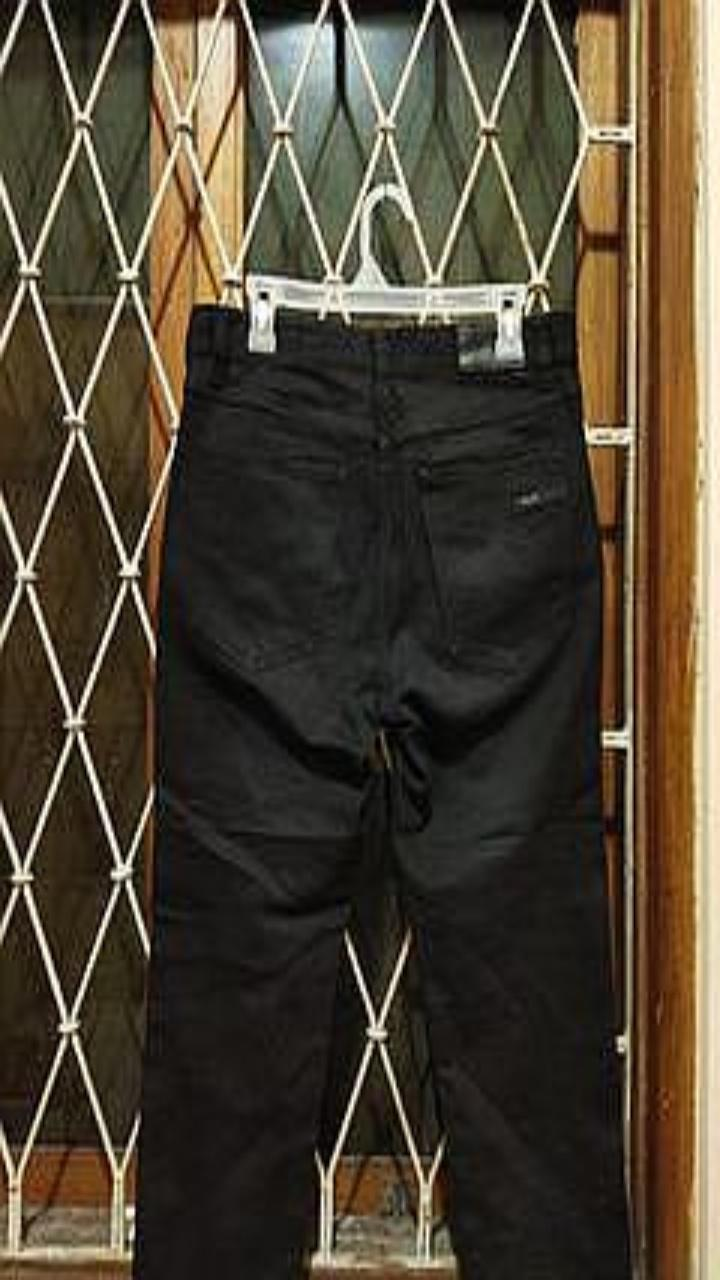Jeans: (133, 303, 631, 1279)
